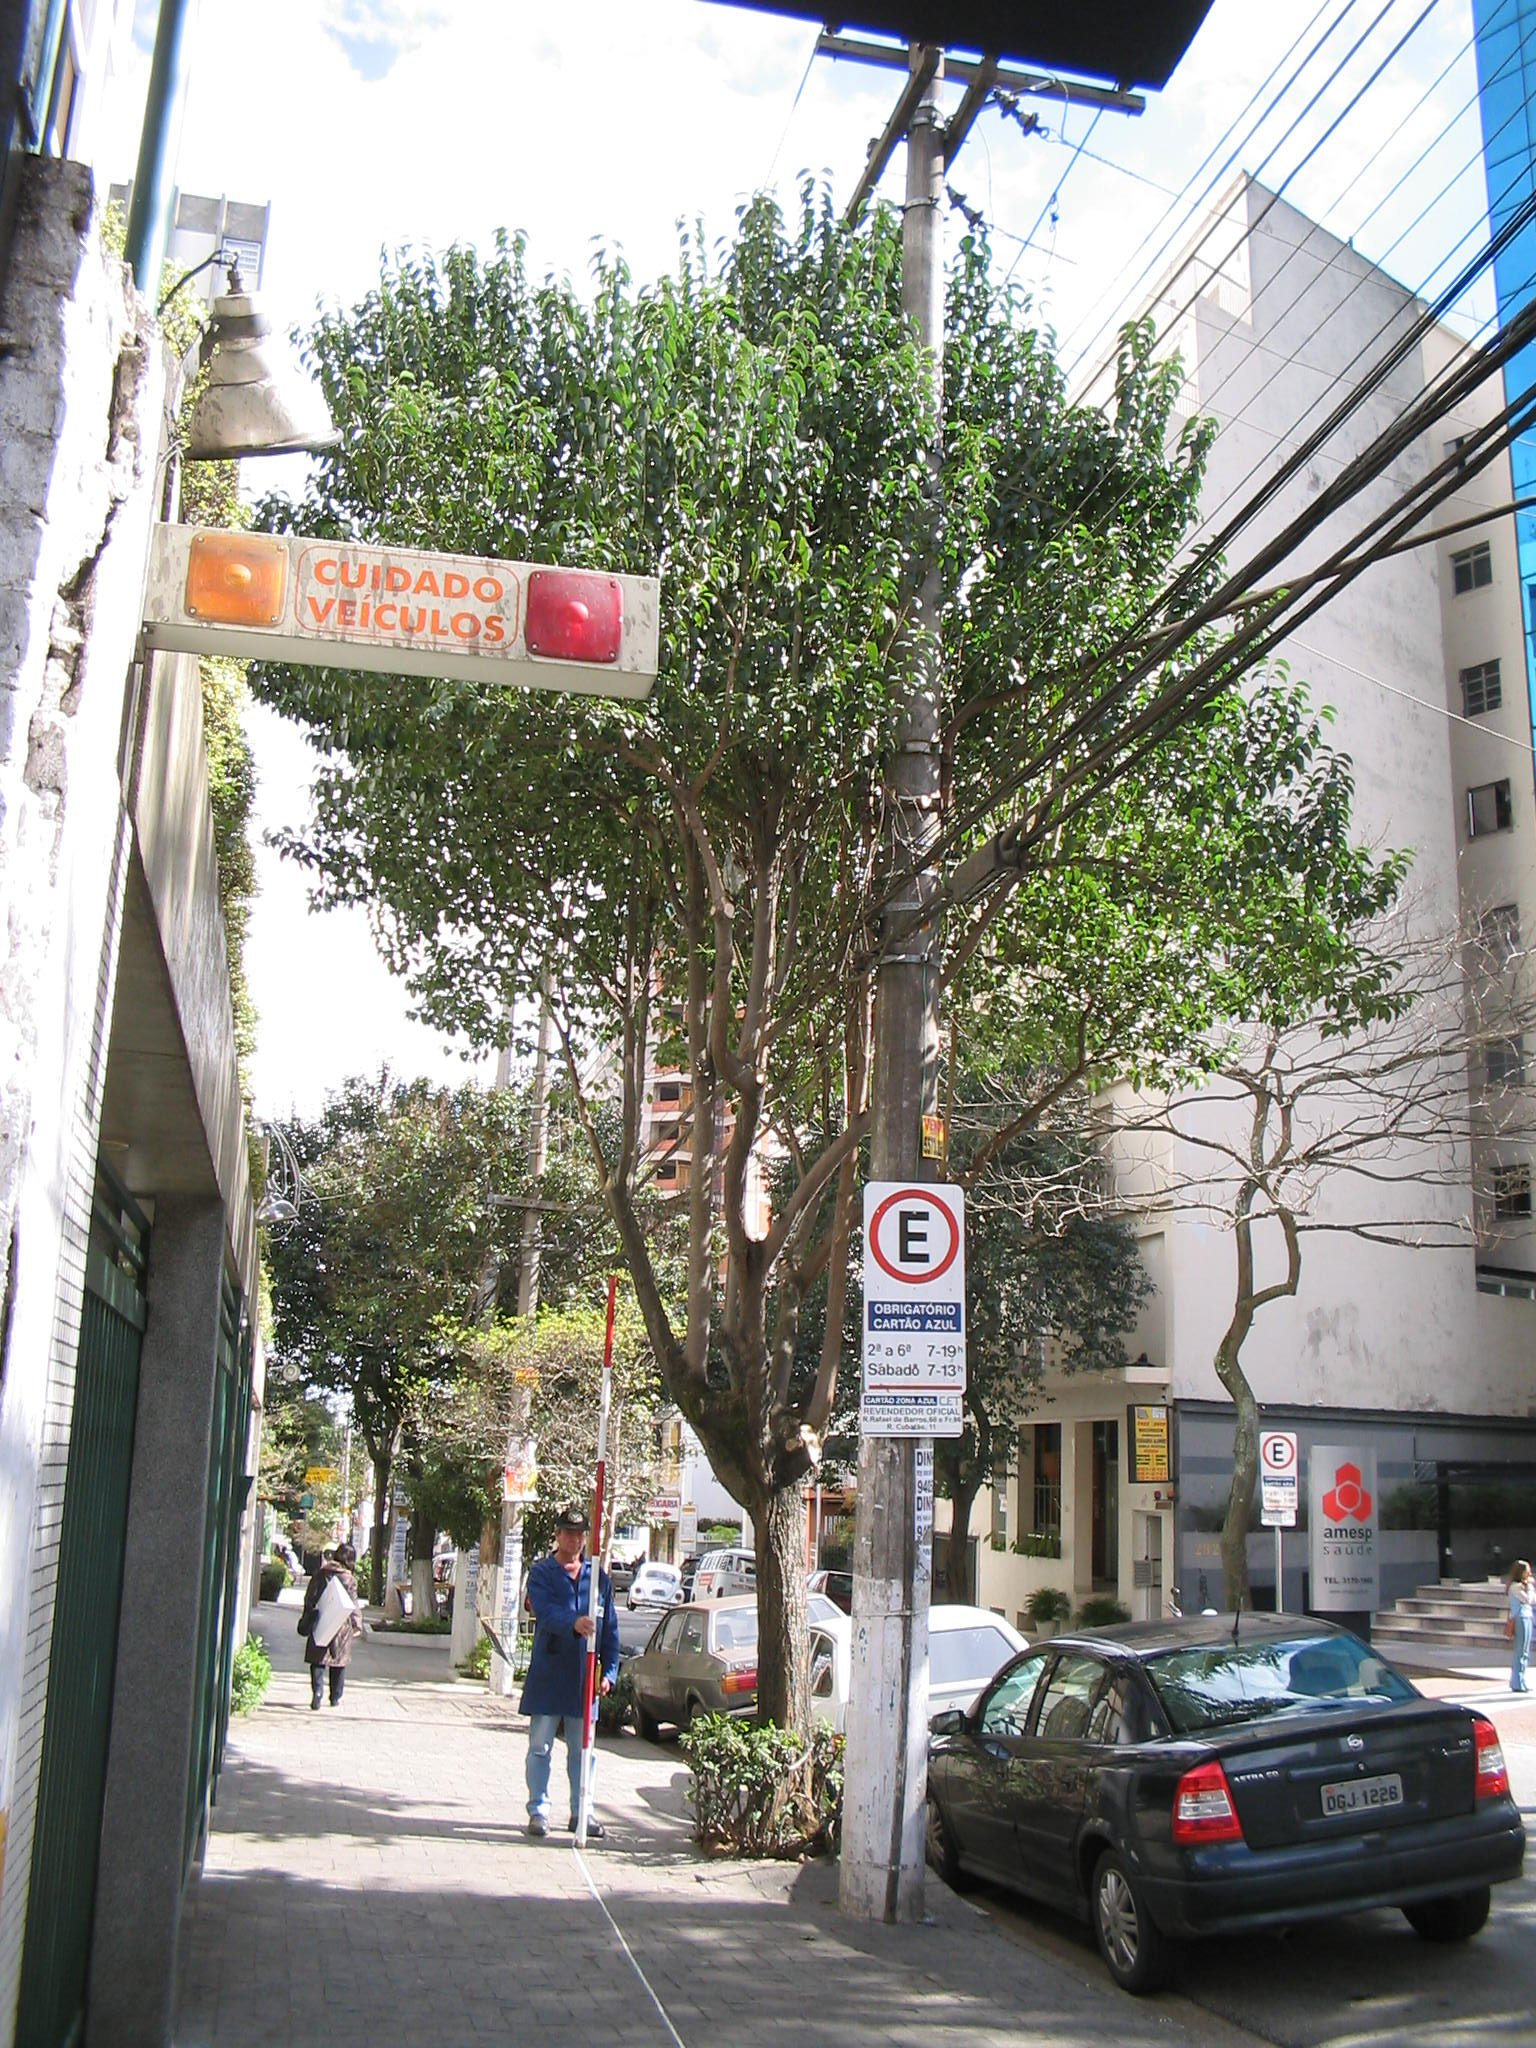crown: (248, 171, 1412, 1187)
stem: (689, 1482, 849, 1842)
stick: (552, 1279, 645, 1850)
tree: (239, 171, 1425, 1850), (1102, 1005, 1528, 1605)
